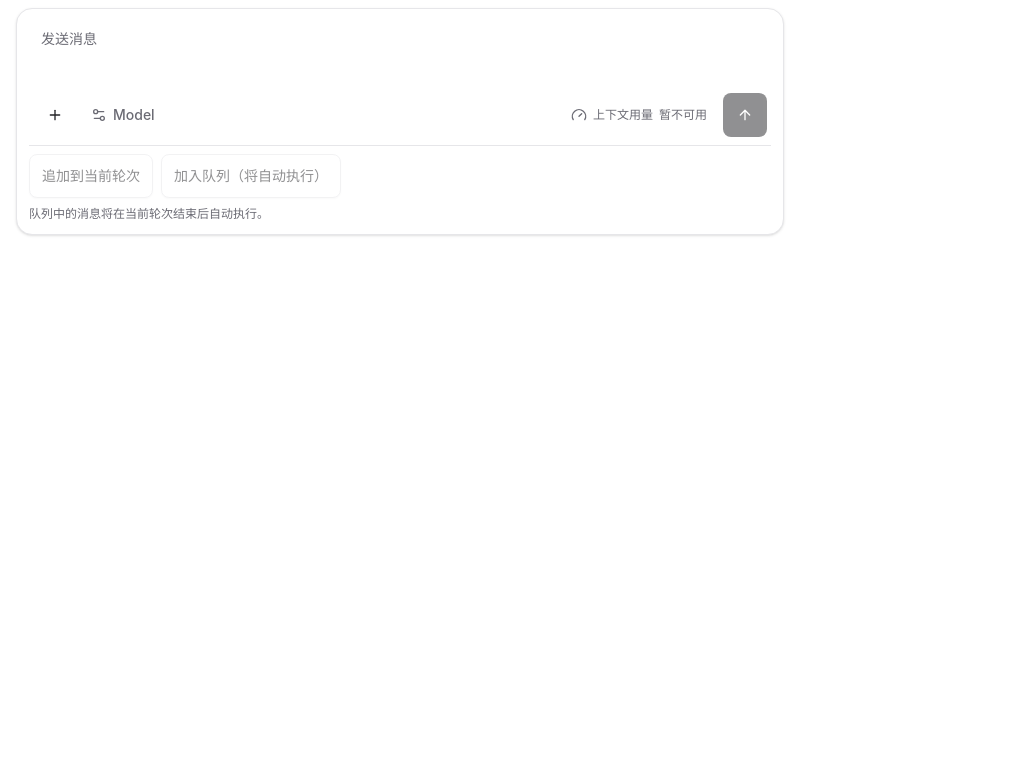
Codex composer › disables setting changes while a native turn is running
Click the button "Model" at (123,115), box [79,93,167,137]
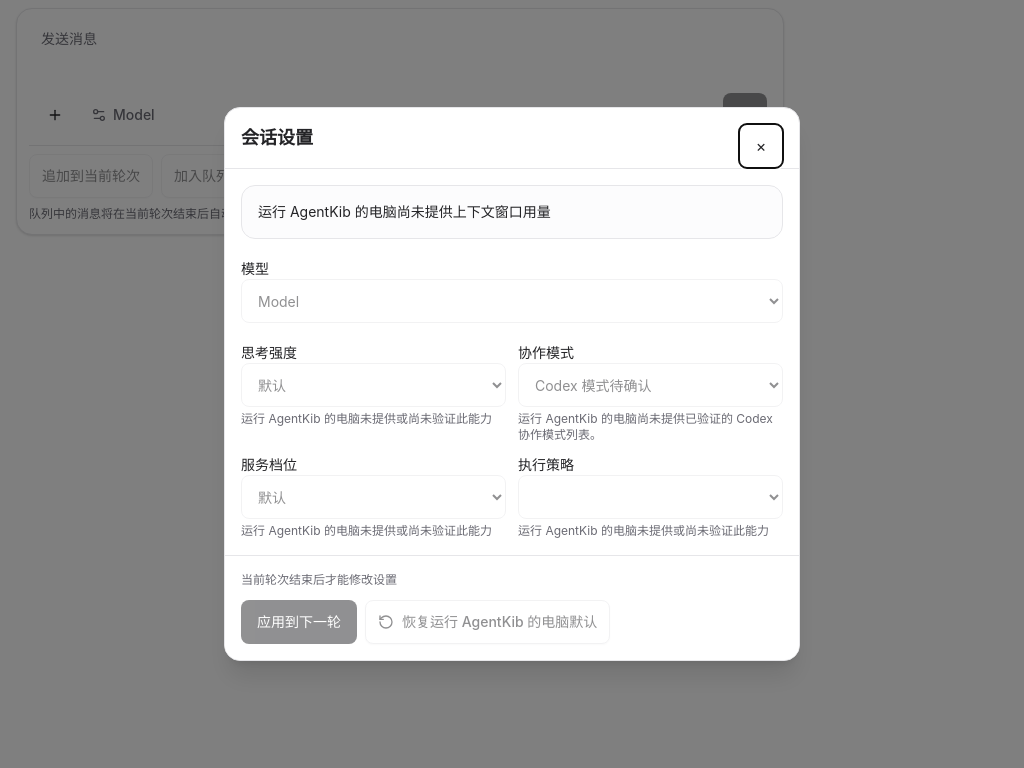
Expected: the dropdown labelled "模型" is disabled, [241,279,783,323]
Expected: the button "恢复运行 AgentKib 的电脑默认" is disabled, [365,600,610,644]
Expected: the text "当前轮次结束后才能修改设置" is shown, [241,572,397,587]
